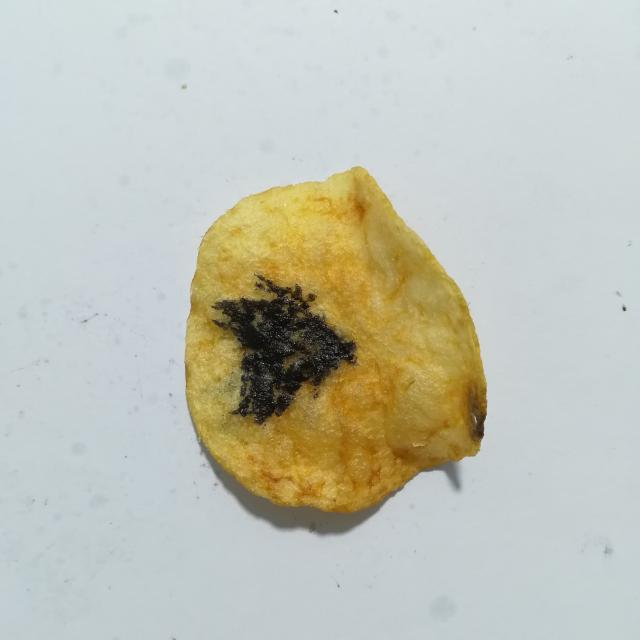chip: (185, 167, 487, 512)
damaged: (212, 275, 356, 423), (468, 388, 486, 441)
semi-damaged: (218, 338, 243, 411)
